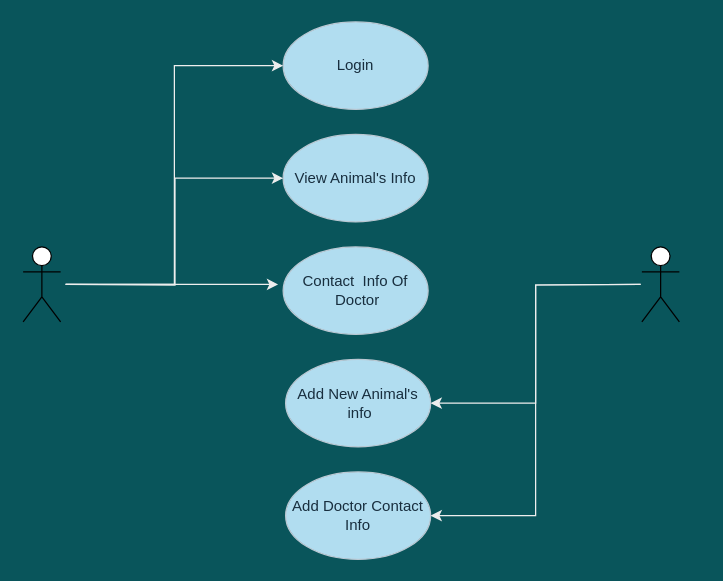
Image size: 723x581. Some labels were removed from this diagram. The shapes that lost their labels are listed below. From the top down, each one's centre as x and y in pixels, then its label:
At point 41,284: "USER".
At point 660,284: "DEVLOPER".
